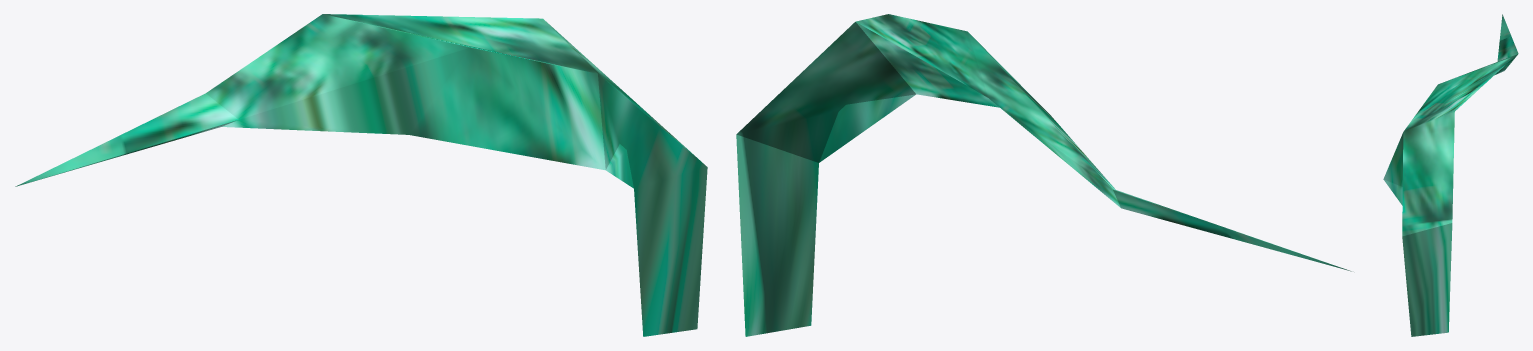
The model's file is H1_BluePlant_Branch_16.gltf.
3 renders of one model, left to right at view 1: azimuth 30°, elevation 25°; view 2: azimuth 150°, elevation 25°; view 3: azimuth 270°, elevation 25°, orthographic. The views are drawn at different scales.
Visible parts, largest first — view 1: H1_BluePlant_Branch_16; view 2: H1_BluePlant_Branch_16; view 3: H1_BluePlant_Branch_16.
Boxes of the visible parts, x1=… form: H1_BluePlant_Branch_16: x1=15, y1=14, x2=707, y2=336; H1_BluePlant_Branch_16: x1=736, y1=14, x2=1351, y2=336; H1_BluePlant_Branch_16: x1=1383, y1=14, x2=1518, y2=336.
Bounding box in the file's own units: 4.4 × 2.22 × 1.39.
Materials: 1 (1 with a texture image).
